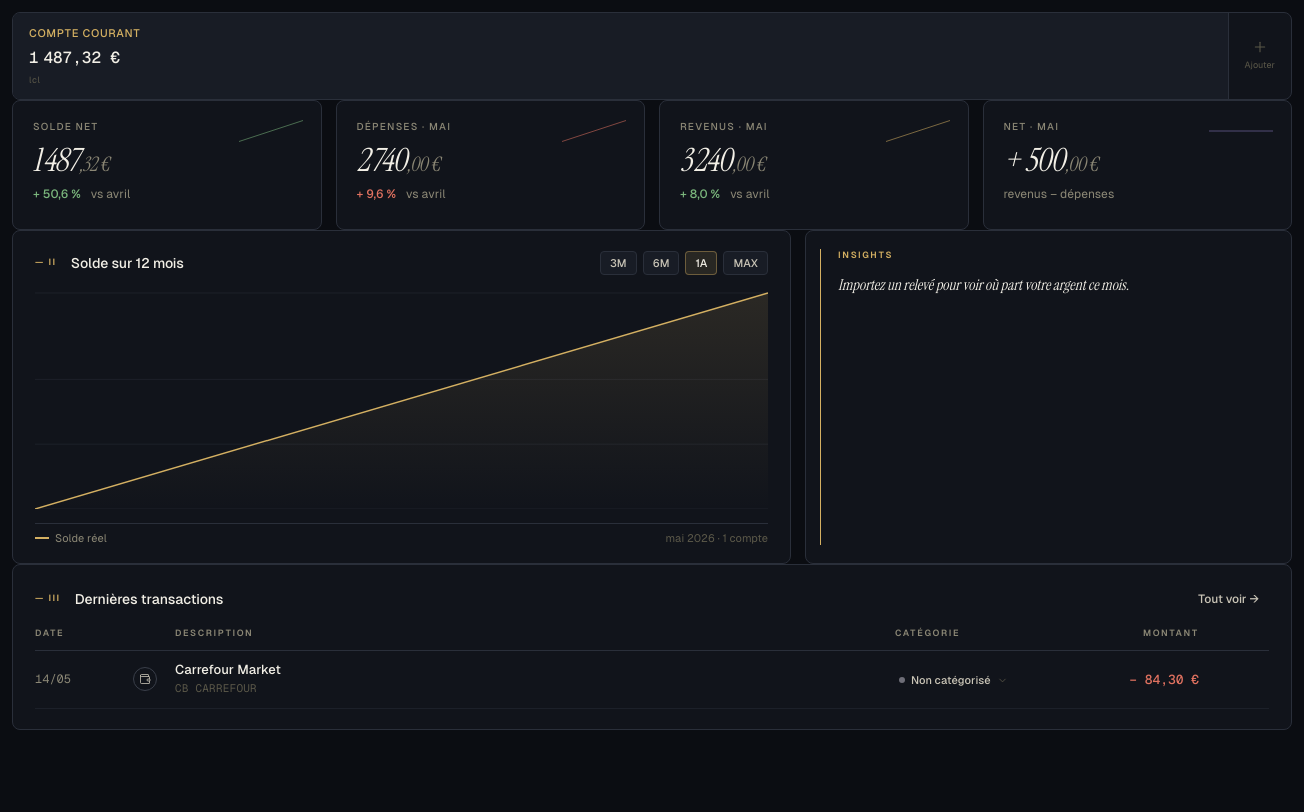
Scenario: DashboardPage › refetches the balance series when a range chip is clicked
Expected: the text "Solde sur 12 mois" is shown, [71, 253, 184, 273]
Click the button "3M" at (618, 263), box [600, 251, 637, 275]
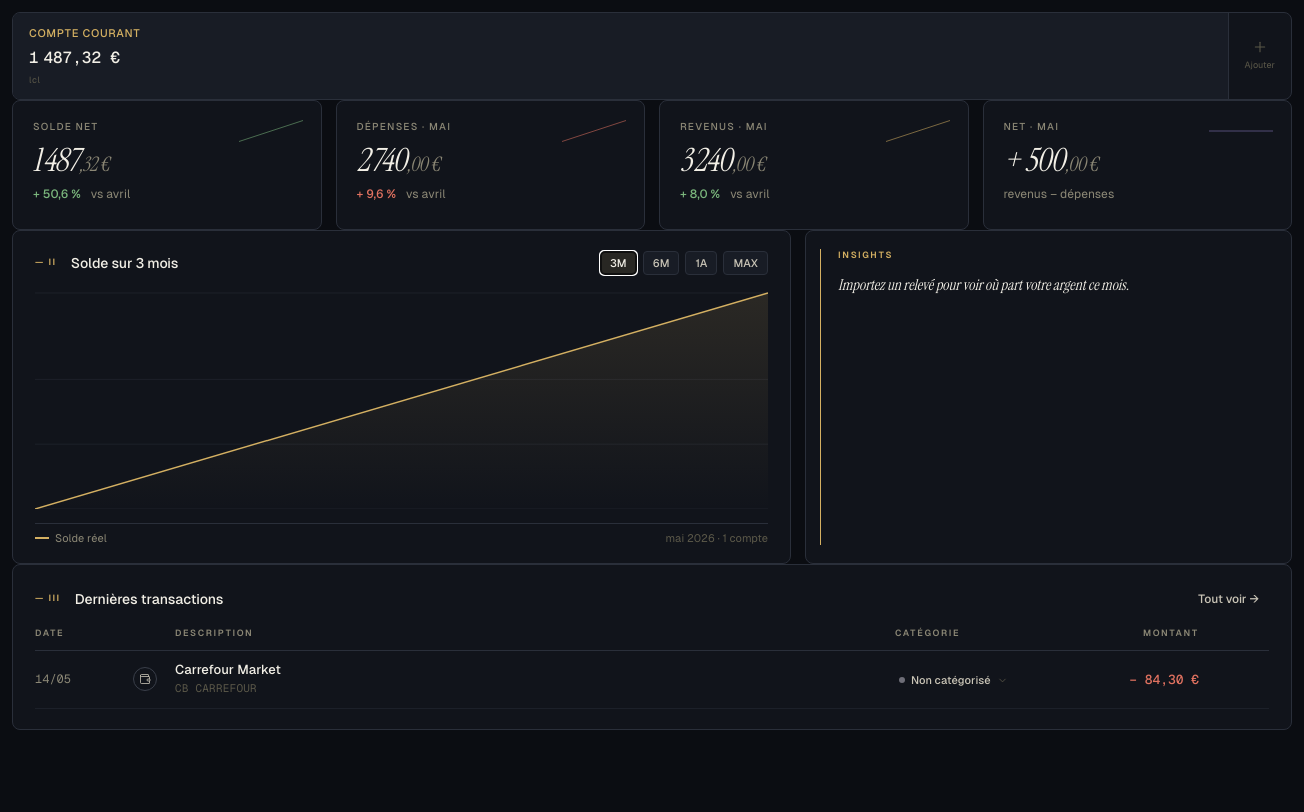
Now the text "Solde sur 3 mois" is shown, box [71, 253, 178, 273]
